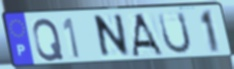1: (200, 8, 223, 56), (62, 17, 82, 60)
A: (131, 12, 166, 57)
N: (95, 12, 132, 61)
Q: (31, 17, 66, 63)
U: (157, 10, 194, 56)
